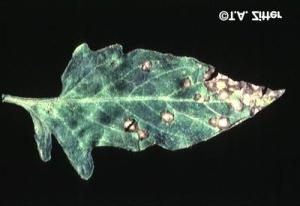Tomato Septoria leaf spot: (11, 30, 283, 184)
